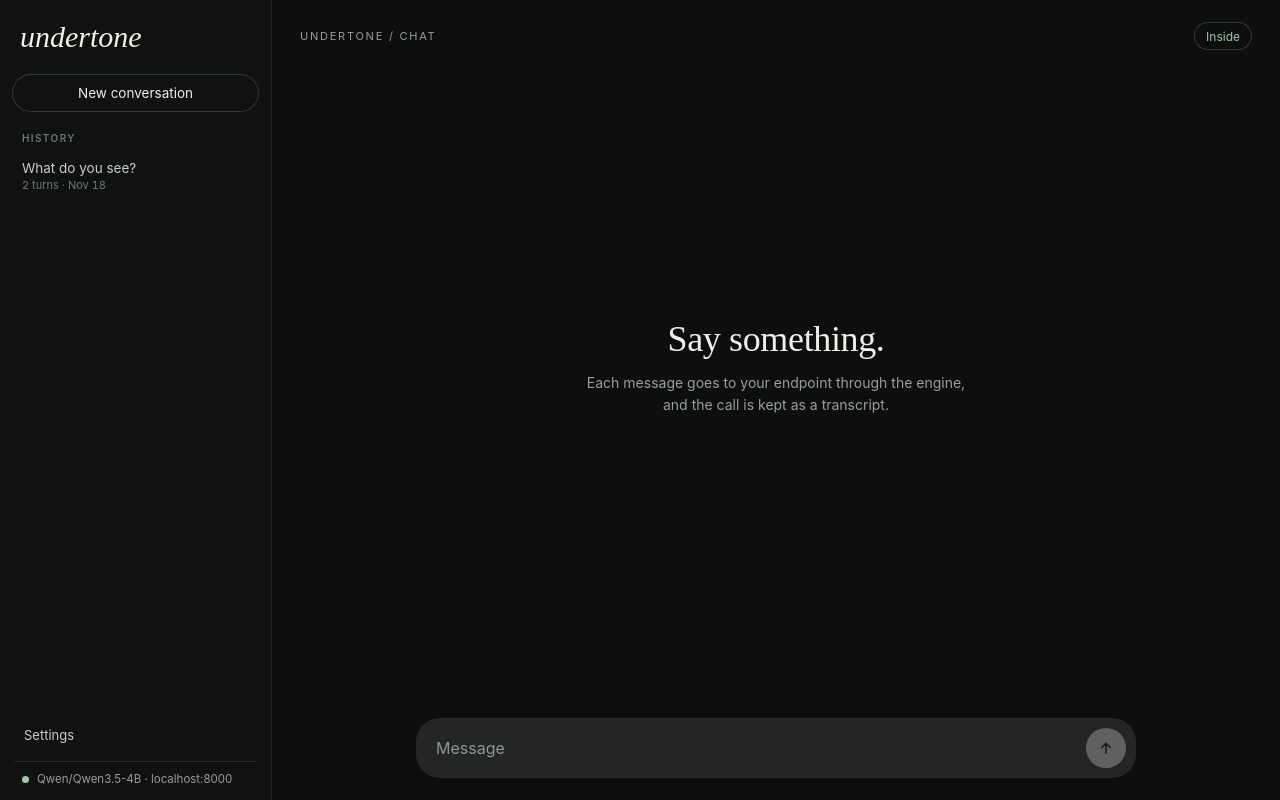
Inside the model › marks the words of a reply that has a reading and shows the whole reply's reading
Click the button "What do you see? 2 turns · Nov 18" at (136, 176), box [12,152,259,200]
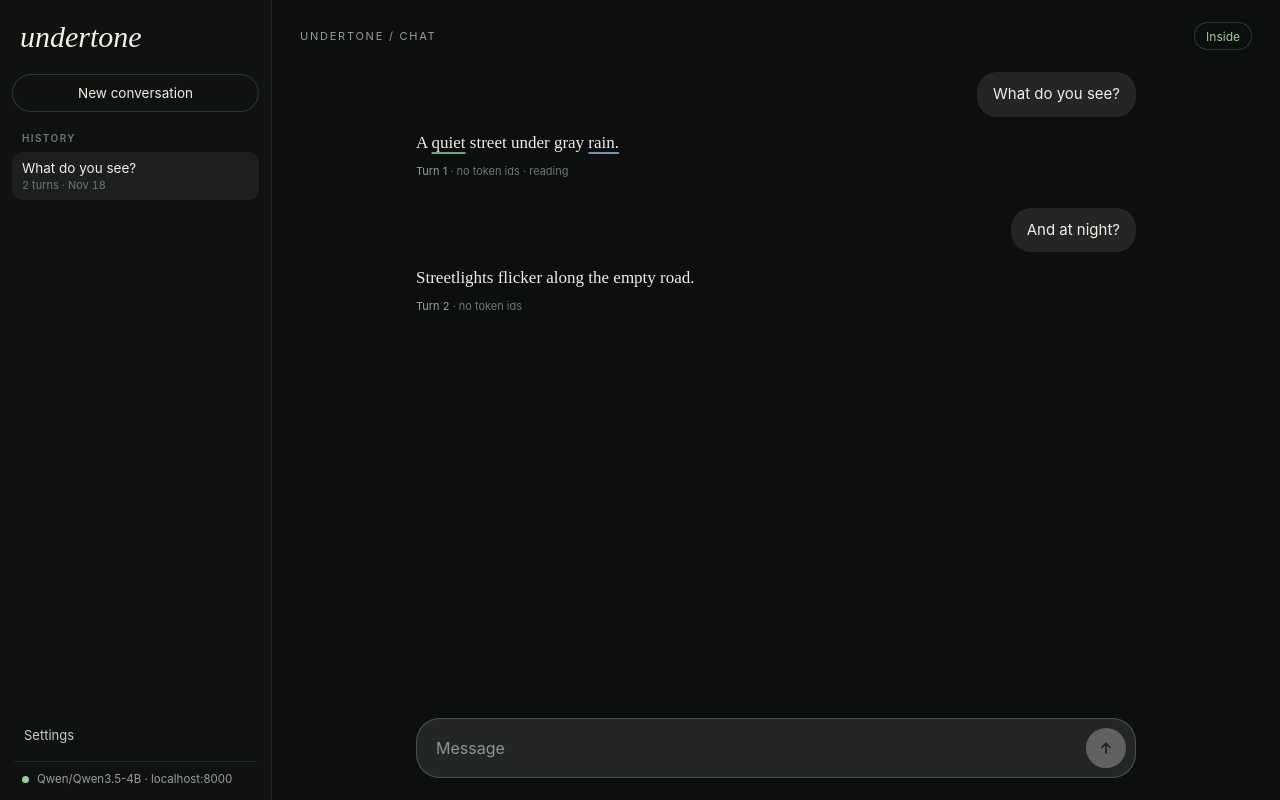
Expected: the text "And at night?" is shown, [1011,208,1136,252]
Expected: the element named "quiet: calm, lonely" reads "A quiet street under gray rain.", [416,128,619,156]
Expected: the text "Streetlights flicker along the empty road." is shown, [416,268,694,287]
Click the button "Turn 1" at (432, 171), box [416,164,447,178]
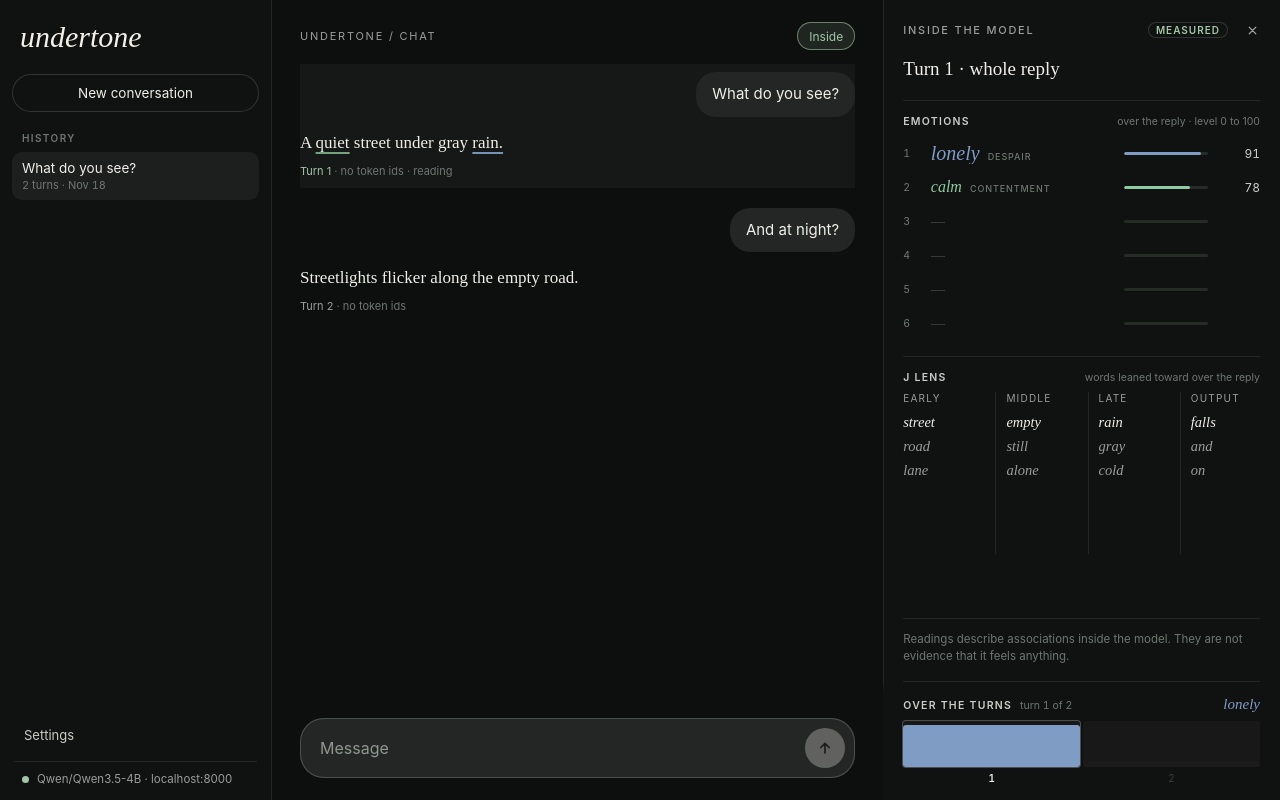
Expected: the element "Inside the model" shows "Turn 1 · whole reply", [883,0,1279,799]
Expected: the element "Inside the model" shows "measured", [1156,24,1220,36]
Expected: the list items read "1lonelyDespair91", "2calmContentment78", in this order, [903,136,1260,170]; [903,178,1260,195]
